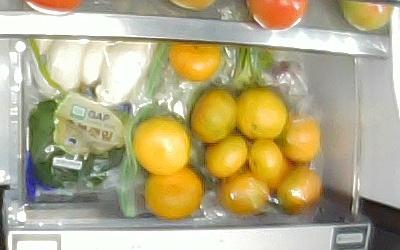tangerine: (132, 117, 189, 176), (144, 166, 203, 218), (237, 88, 287, 141), (191, 89, 238, 143), (168, 43, 220, 80), (204, 135, 248, 178), (248, 140, 282, 179)
tangerine_vinyl: (218, 172, 268, 216), (277, 167, 321, 214), (281, 115, 321, 162)
